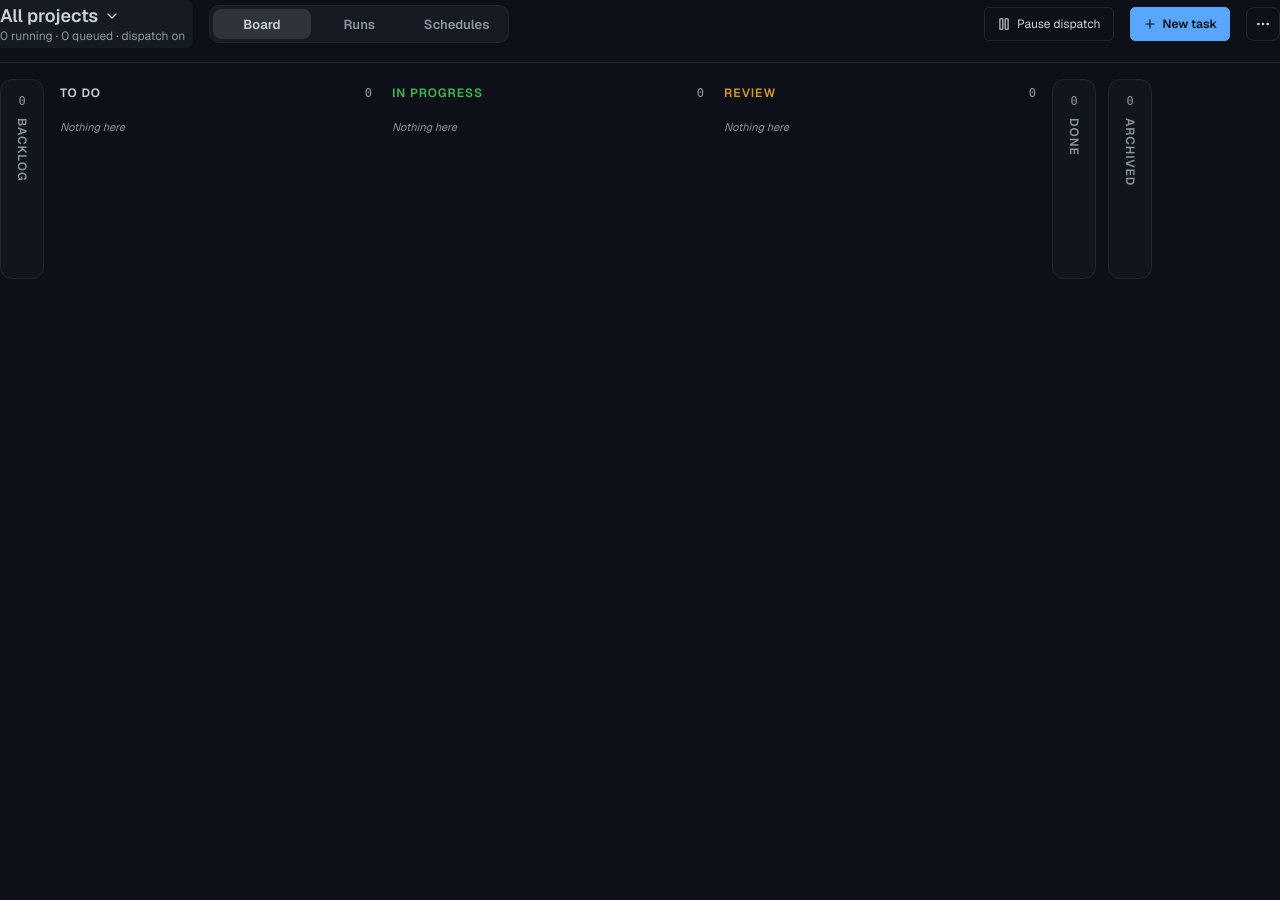
Test case: New task is the one primary button: disabled (and says why) without a Linear tracker; with one it opens the New-task dialog
Click the button "New task" at (1180, 24), box [1130,7,1230,41]
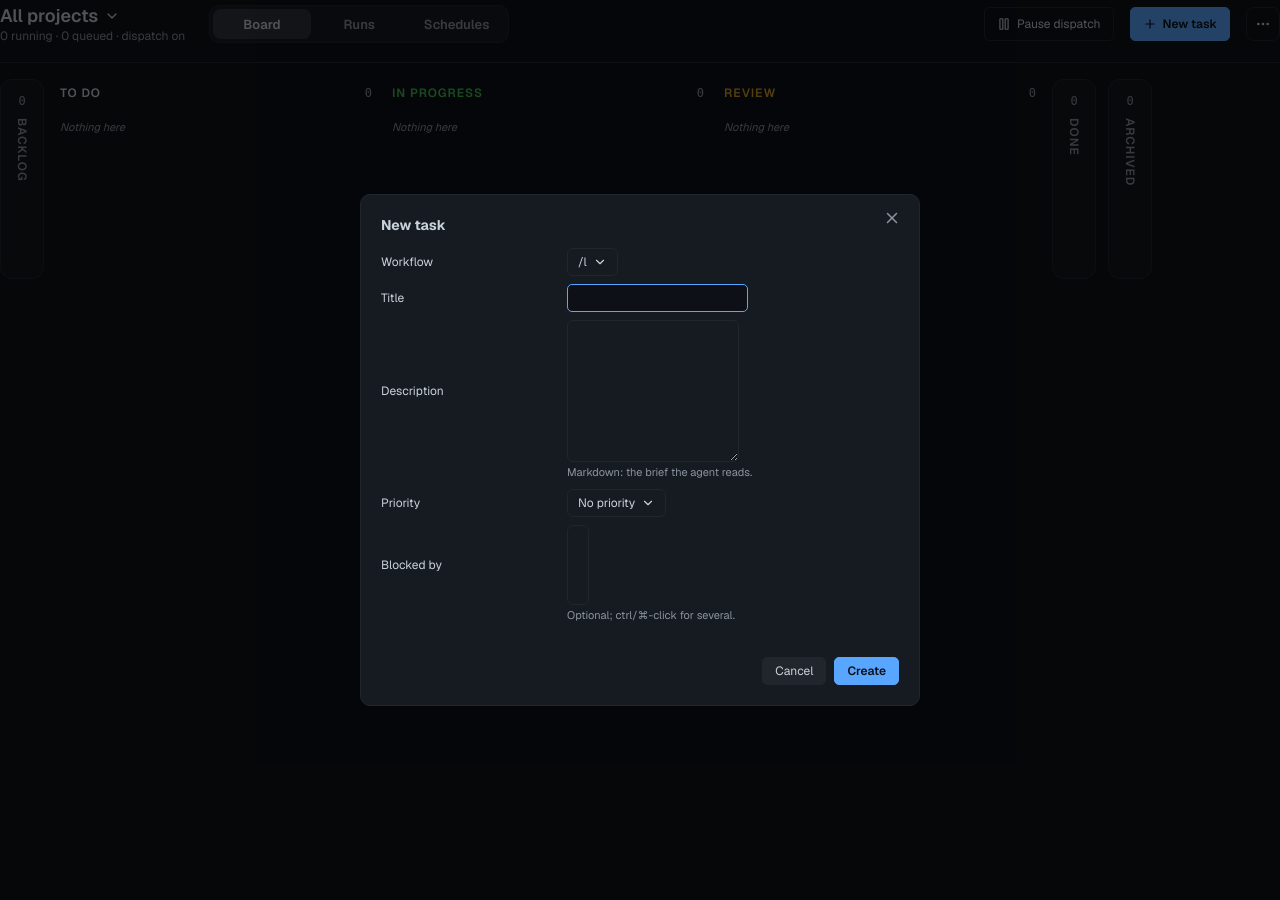
Expected: the heading "New task" is shown, [381,216,446,234]
Press Escape in the dialog, box [360,194,920,706]
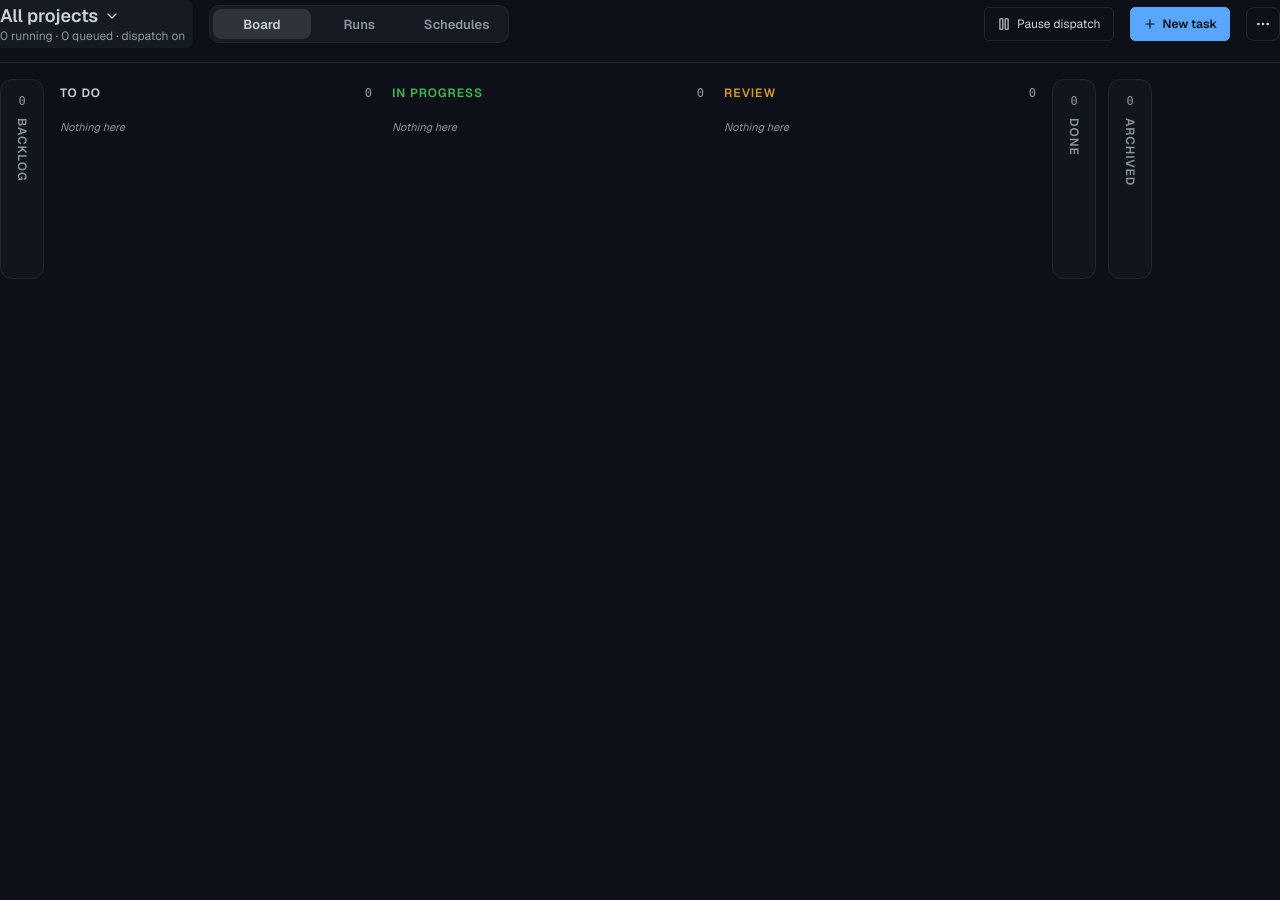
Expected: the dialog is gone
